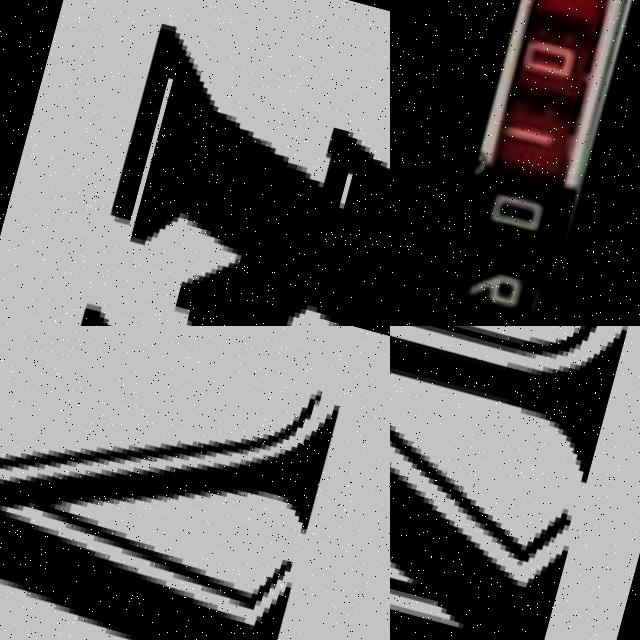0: (486, 189, 550, 239), (518, 36, 582, 84)
1: (494, 114, 560, 157)
9: (461, 264, 528, 318)
A: (20, 15, 390, 326)
N: (0, 326, 360, 640), (390, 326, 640, 640)
